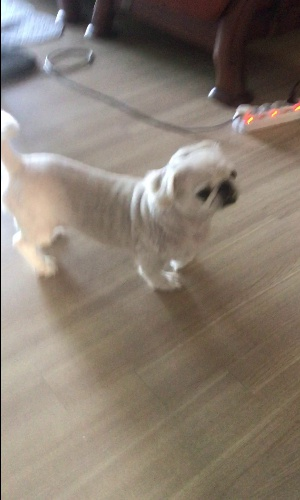ddubi: (1, 107, 242, 295)
